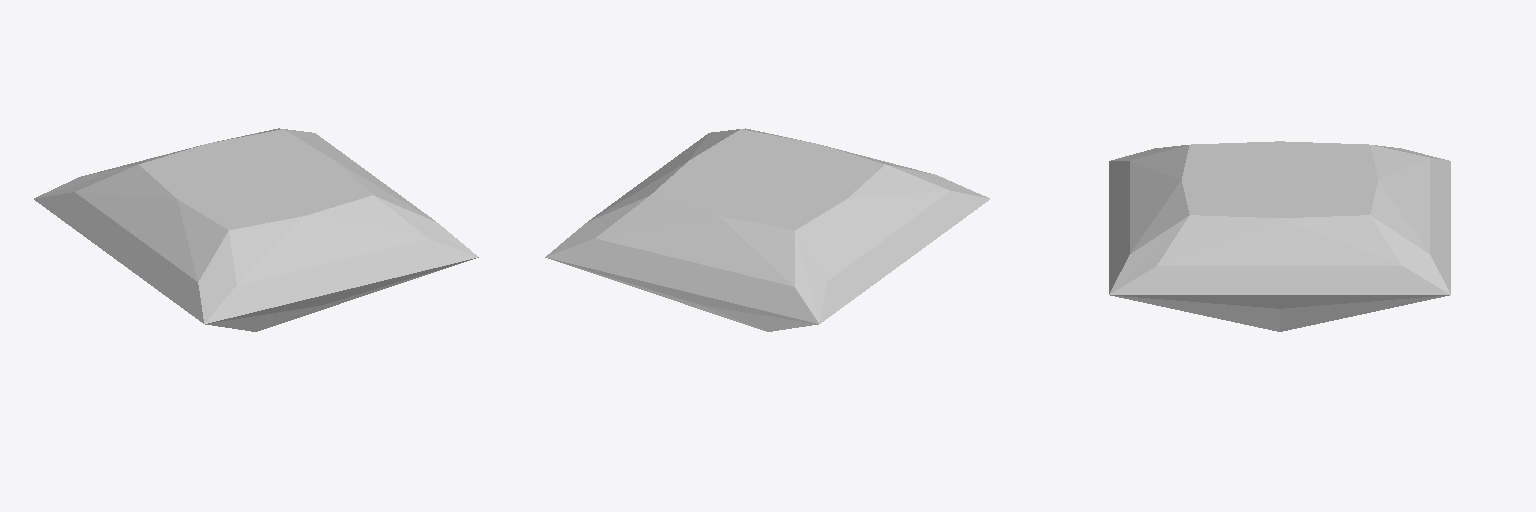
File: Gem4.obj
3 renders of one model, left to right at view 1: azimuth 30°, elevation 25°; view 2: azimuth 150°, elevation 25°; view 3: azimuth 270°, elevation 25°, orthographic.
Bounding box in the file's own units: 0.0357 × 0.0189 × 0.0386.